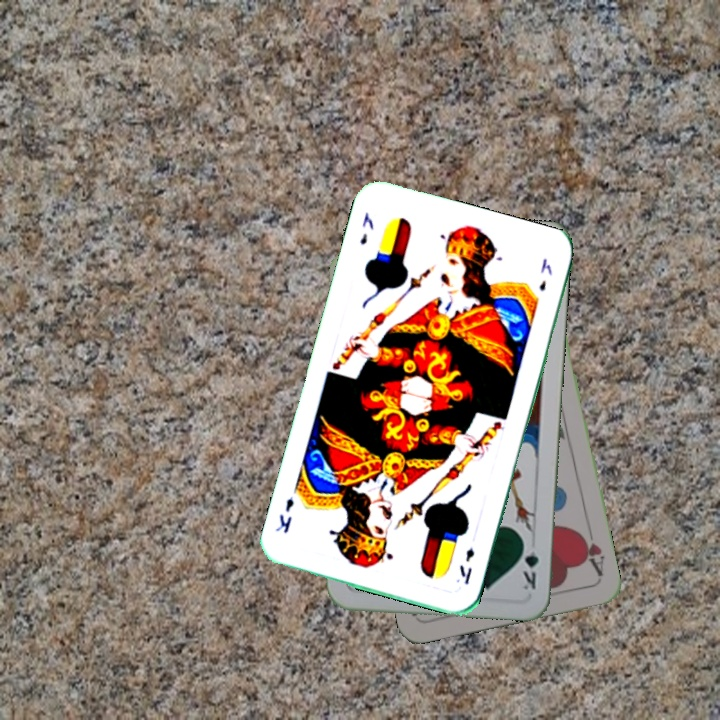EK: (455, 543, 477, 587), (355, 208, 376, 248)
GK: (517, 535, 542, 593)
HA: (575, 522, 608, 579)
